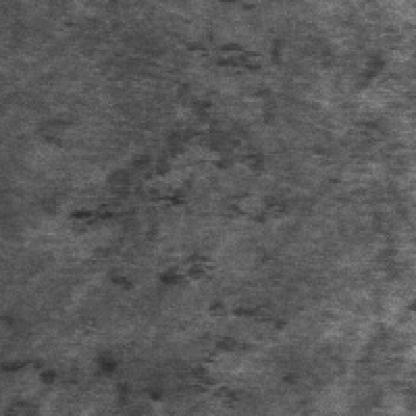rolled-in_scale: (69, 44, 280, 296), (1, 337, 244, 412)
